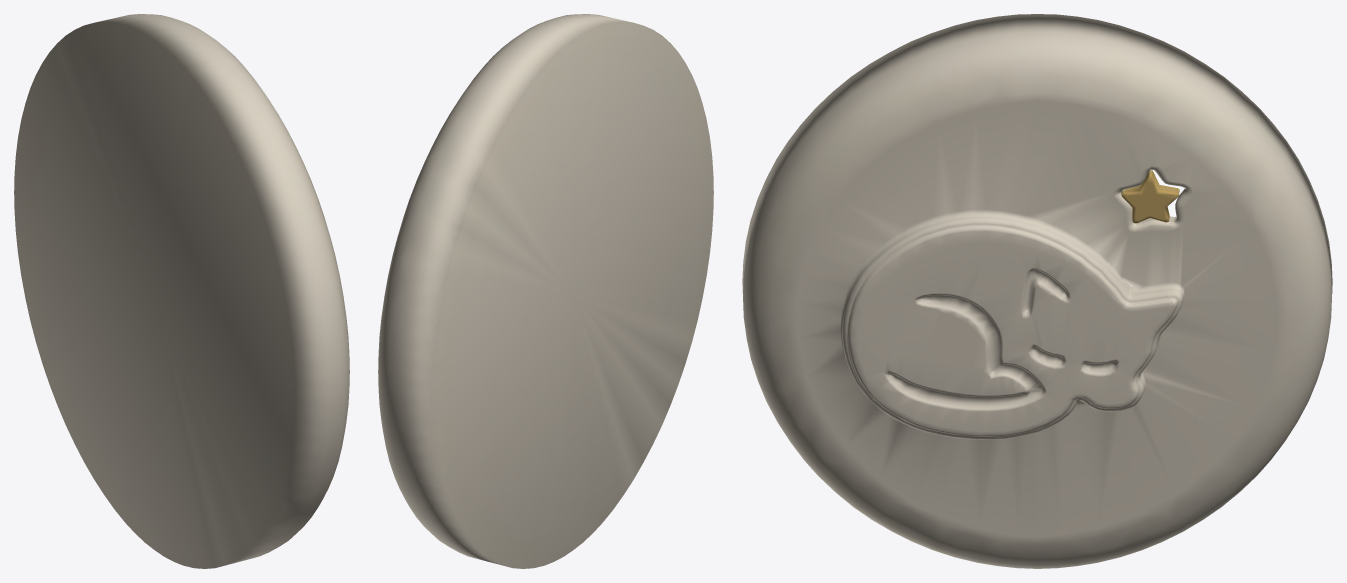
The model's file is patrol-token.glb.
3 renders of one model, left to right at view 1: azimuth 30°, elevation 25°; view 2: azimuth 150°, elevation 25°; view 3: azimuth 270°, elevation 25°, orthographic. The views are drawn at different scales.
Visible parts, largest first — view 1: tripo_node_c559e5cd-dd4e-4093-bf64-869fc02bfe95; view 2: tripo_node_c559e5cd-dd4e-4093-bf64-869fc02bfe95; view 3: tripo_node_c559e5cd-dd4e-4093-bf64-869fc02bfe95.
Boxes of the visible parts, bbox=[...] form: tripo_node_c559e5cd-dd4e-4093-bf64-869fc02bfe95: bbox=[14, 14, 349, 568]; tripo_node_c559e5cd-dd4e-4093-bf64-869fc02bfe95: bbox=[378, 14, 713, 568]; tripo_node_c559e5cd-dd4e-4093-bf64-869fc02bfe95: bbox=[742, 14, 1332, 568].
Size of the model in its own units: 0.1978 by 0.9995 by 0.9995.
Materials: 1 (1 with a texture image).
